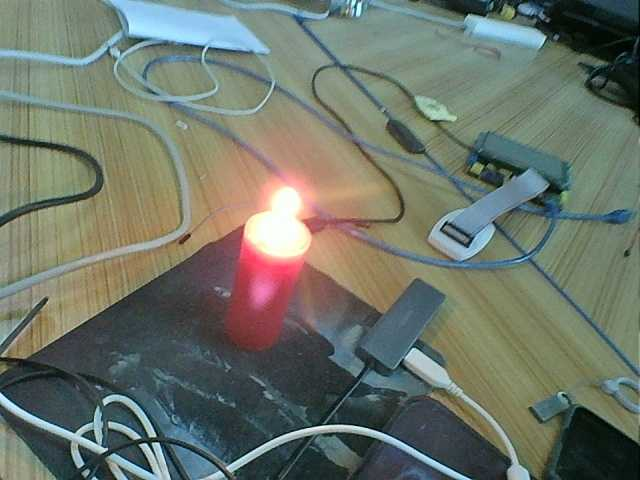candle: (232, 243, 293, 352)
fire: (262, 188, 306, 247)
